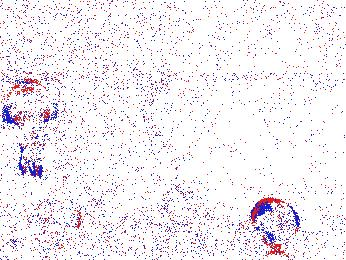flame jellyfish: (3, 82, 61, 178), (236, 196, 301, 248), (29, 195, 84, 249)
